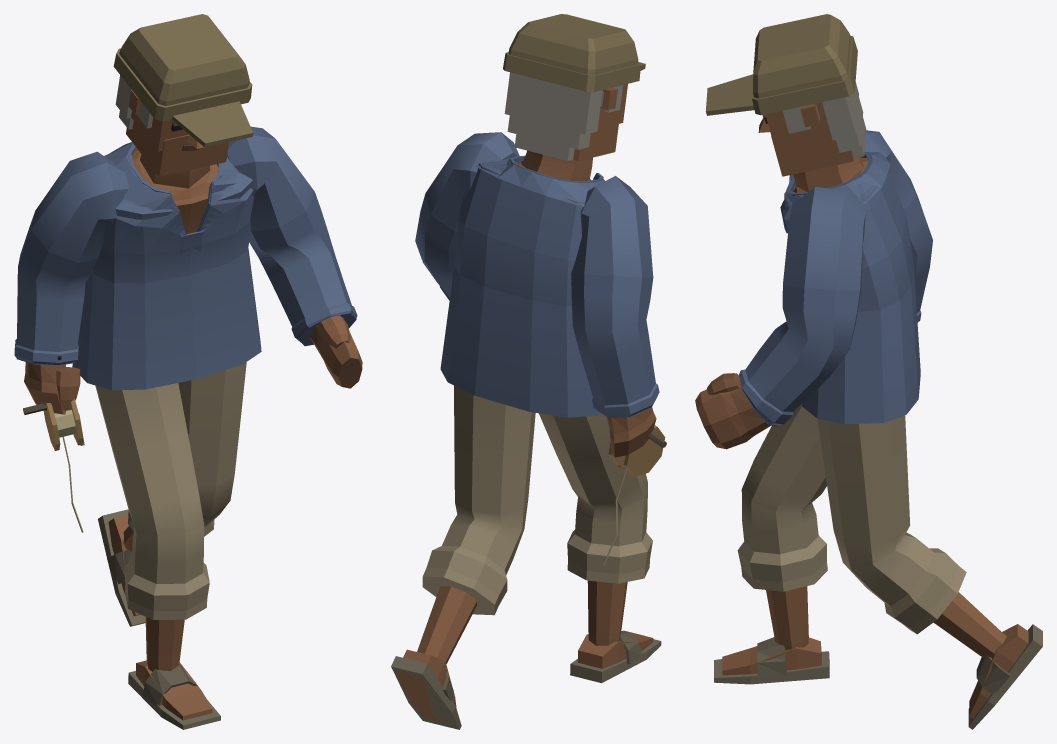
File: hanga-roa-fisherman-e56812__walk5.glb
The picture shows the model from 3 angles, left to right: view 1: azimuth 30°, elevation 25°; view 2: azimuth 150°, elevation 25°; view 3: azimuth 270°, elevation 25°; orthographic projection.
Parts seen in each view (by area): view 1: hanga-roa-fisherman-e56812__walk5; view 2: hanga-roa-fisherman-e56812__walk5; view 3: hanga-roa-fisherman-e56812__walk5.
Boxes of the visible parts, x1,y1,x2,y2 form: hanga-roa-fisherman-e56812__walk5: [14, 14, 362, 729]; hanga-roa-fisherman-e56812__walk5: [391, 14, 666, 729]; hanga-roa-fisherman-e56812__walk5: [695, 14, 1042, 729].
Bounding box in the file's own units: 0.7385 × 1.69 × 0.7985.
